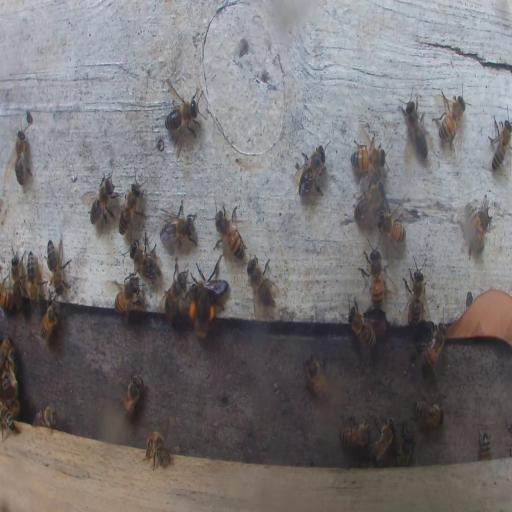bee: (163, 90, 200, 148), (346, 294, 378, 357), (400, 92, 428, 162), (292, 143, 328, 197), (434, 90, 466, 150), (403, 252, 427, 330), (88, 170, 120, 228), (216, 202, 246, 261), (246, 256, 278, 309), (188, 286, 216, 342), (159, 205, 196, 246), (46, 236, 72, 292), (130, 236, 162, 281), (466, 199, 492, 254), (118, 179, 143, 235), (163, 264, 187, 320), (488, 115, 512, 171), (353, 177, 383, 221), (420, 322, 447, 370), (377, 202, 406, 244), (113, 273, 142, 315), (9, 129, 30, 186), (304, 352, 328, 400), (118, 371, 143, 417), (368, 419, 394, 463), (192, 272, 230, 302), (26, 250, 45, 309), (144, 430, 170, 471), (1, 356, 18, 416), (367, 244, 382, 310), (338, 421, 372, 450), (413, 398, 444, 429), (9, 252, 26, 308), (351, 145, 387, 171), (0, 334, 16, 392), (41, 296, 60, 340), (398, 422, 414, 466), (0, 404, 18, 438), (33, 407, 57, 429), (479, 430, 492, 460), (2, 274, 13, 309)
